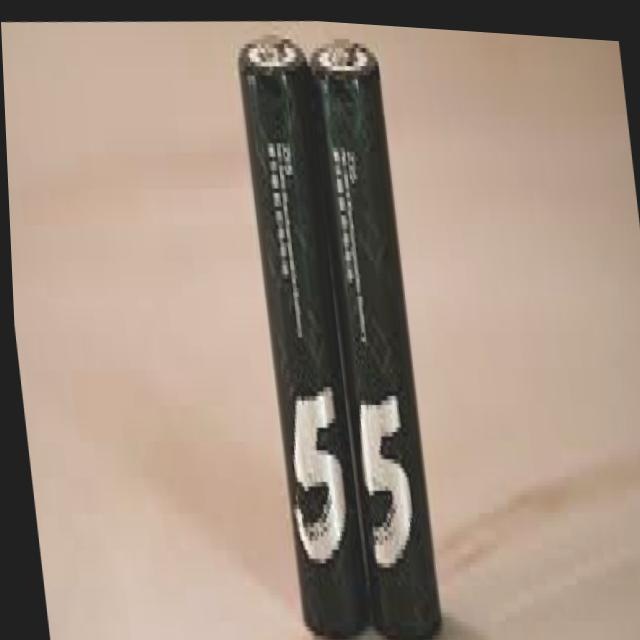B3: (212, 11, 461, 640)
